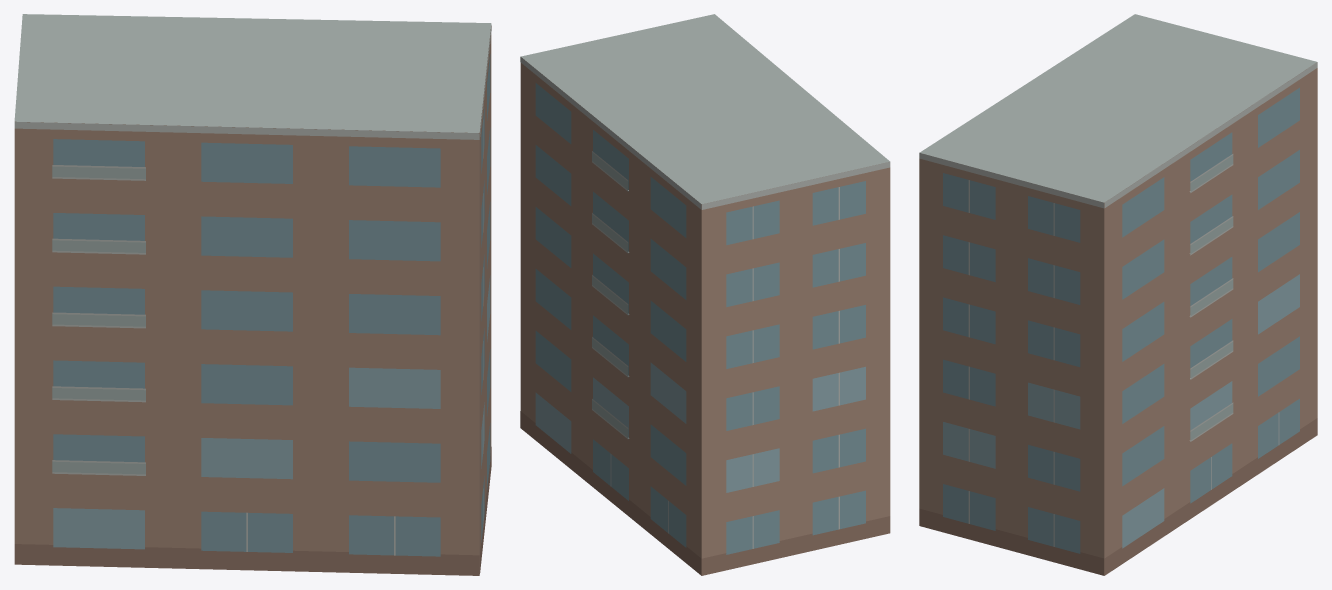
The model's file is survey-upis-32893483.glb.
The picture shows the model from 3 angles, left to right: view 1: azimuth 30°, elevation 25°; view 2: azimuth 150°, elevation 25°; view 3: azimuth 270°, elevation 25°; orthographic projection. The views are drawn at different scales.
Parts seen in each view (by area): view 1: survey-upis-32893483.tmp; view 2: survey-upis-32893483.tmp; view 3: survey-upis-32893483.tmp.
Boxes of the visible parts, x1,y1,x2,y2 form: survey-upis-32893483.tmp: (14, 14, 491, 575); survey-upis-32893483.tmp: (520, 14, 890, 575); survey-upis-32893483.tmp: (919, 14, 1317, 575).
Size of the model in its own units: 17.03 by 15.7 by 15.19.
